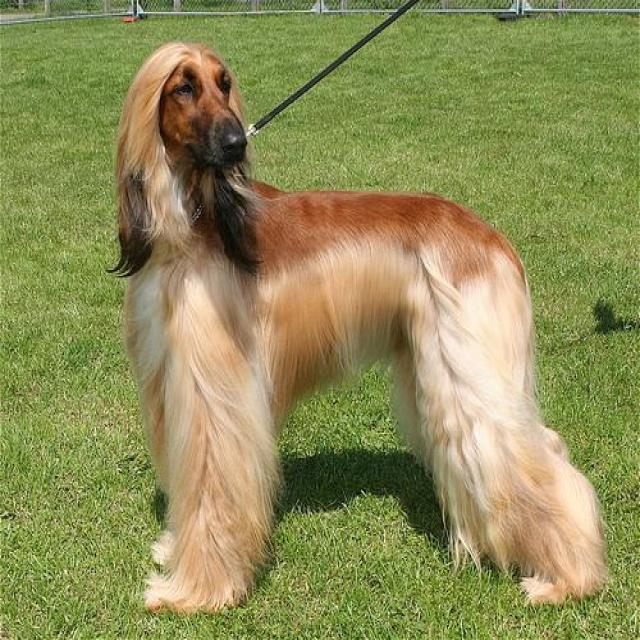afghan_hound: (100, 39, 610, 612)
